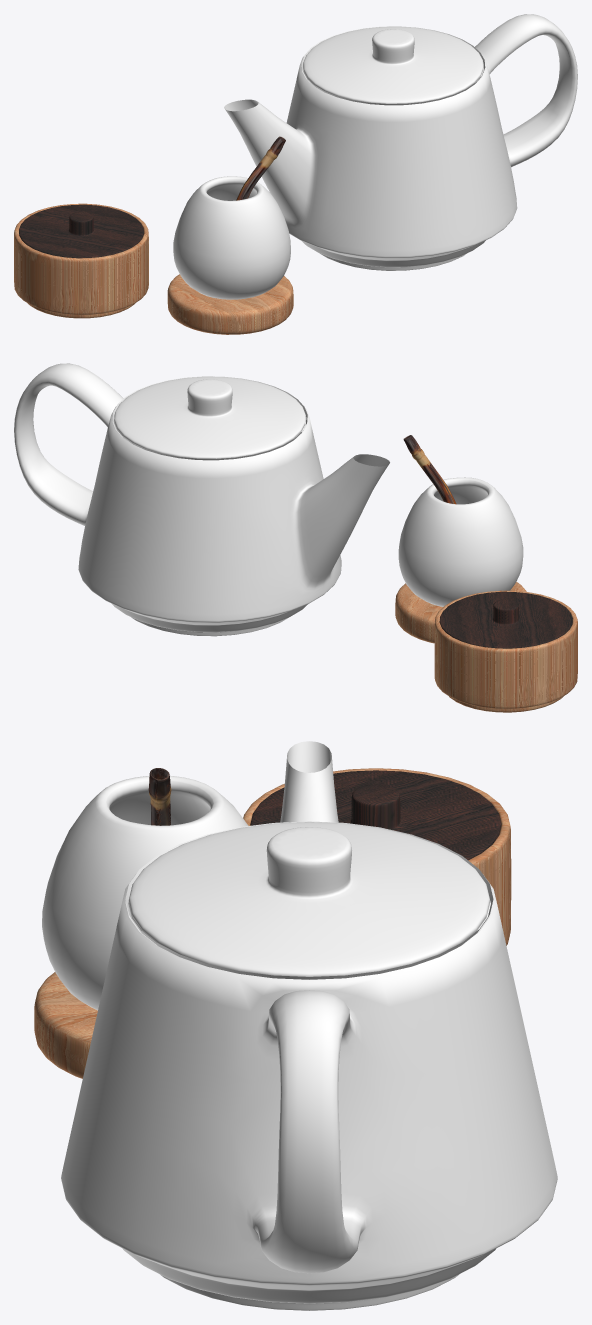
File: yerba-mate.glb
3 views of the same model, one above another, from view 1: azimuth 30°, elevation 25°; view 2: azimuth 150°, elevation 25°; view 3: azimuth 270°, elevation 25° (orthographic). The views are drawn at different scales.
Visible parts, largest first — view 1: tea-pot, tea-pot-cover, wood-mteh, sugar-container, sugar-container-cover, glass-holder, wooden-bombilla; view 2: tea-pot, tea-pot-cover, wood-mteh, sugar-container, sugar-container-cover, glass-holder, wooden-bombilla; view 3: tea-pot, tea-pot-cover, wood-mteh, sugar-container-cover, glass-holder, sugar-container, wooden-bombilla.
Part boxes in pixels (box(x1,y1,x2,y2)): tea-pot: box(224, 14, 577, 270); tea-pot-cover: box(301, 26, 485, 105); wood-mteh: box(173, 176, 290, 299); sugar-container: box(14, 203, 148, 318); sugar-container-cover: box(19, 204, 143, 258); glass-holder: box(167, 274, 293, 334); wooden-bombilla: box(236, 136, 285, 200); tea-pot: box(14, 363, 389, 636); tea-pot-cover: box(112, 376, 307, 460); wood-mteh: box(398, 477, 523, 606); sugar-container: box(434, 590, 577, 712); sugar-container-cover: box(439, 591, 572, 648); glass-holder: box(395, 582, 526, 643); wooden-bombilla: box(403, 435, 456, 504); tea-pot: box(61, 741, 557, 1310); tea-pot-cover: box(125, 821, 493, 979); wood-mteh: box(42, 775, 248, 1010); sugar-container-cover: box(250, 770, 501, 860); glass-holder: box(34, 972, 97, 1078); sugar-container: box(243, 768, 511, 945); wooden-bombilla: box(148, 768, 171, 825).
Bounding box in the file's own units: 3.31 × 1.17 × 1.41.
Materials: 6 (4 with a texture image).
